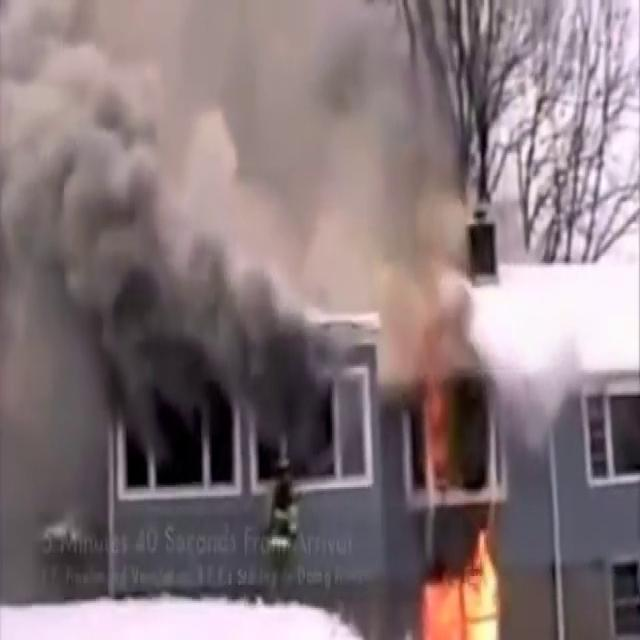Fire: (415, 526, 514, 640)
Smoke: (1, 0, 477, 505)
